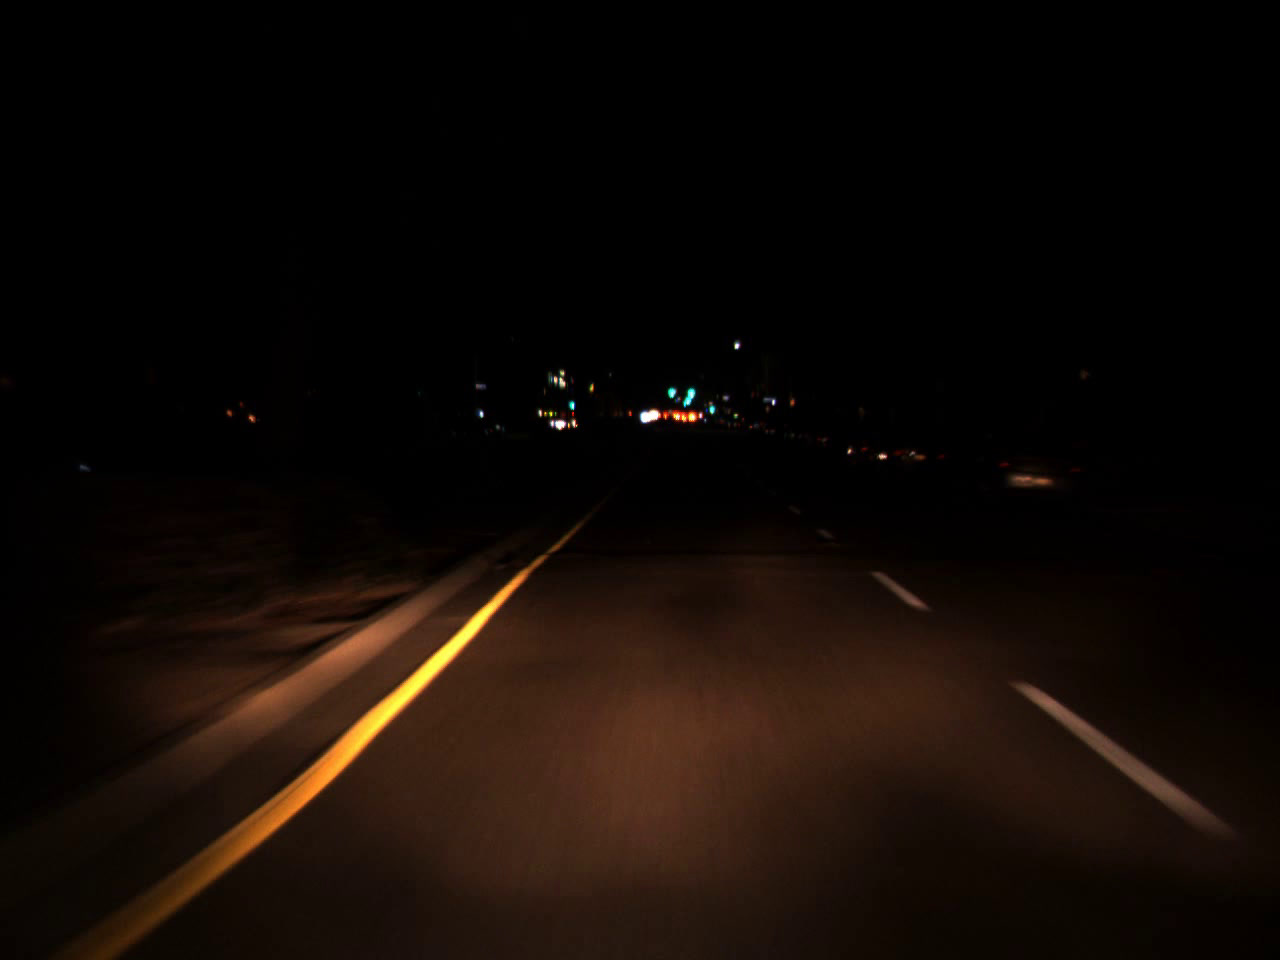go: (683, 377, 697, 401), (664, 375, 676, 402), (568, 393, 575, 411), (708, 398, 715, 416)
